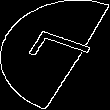L_SE: (16, 30, 94, 80)
